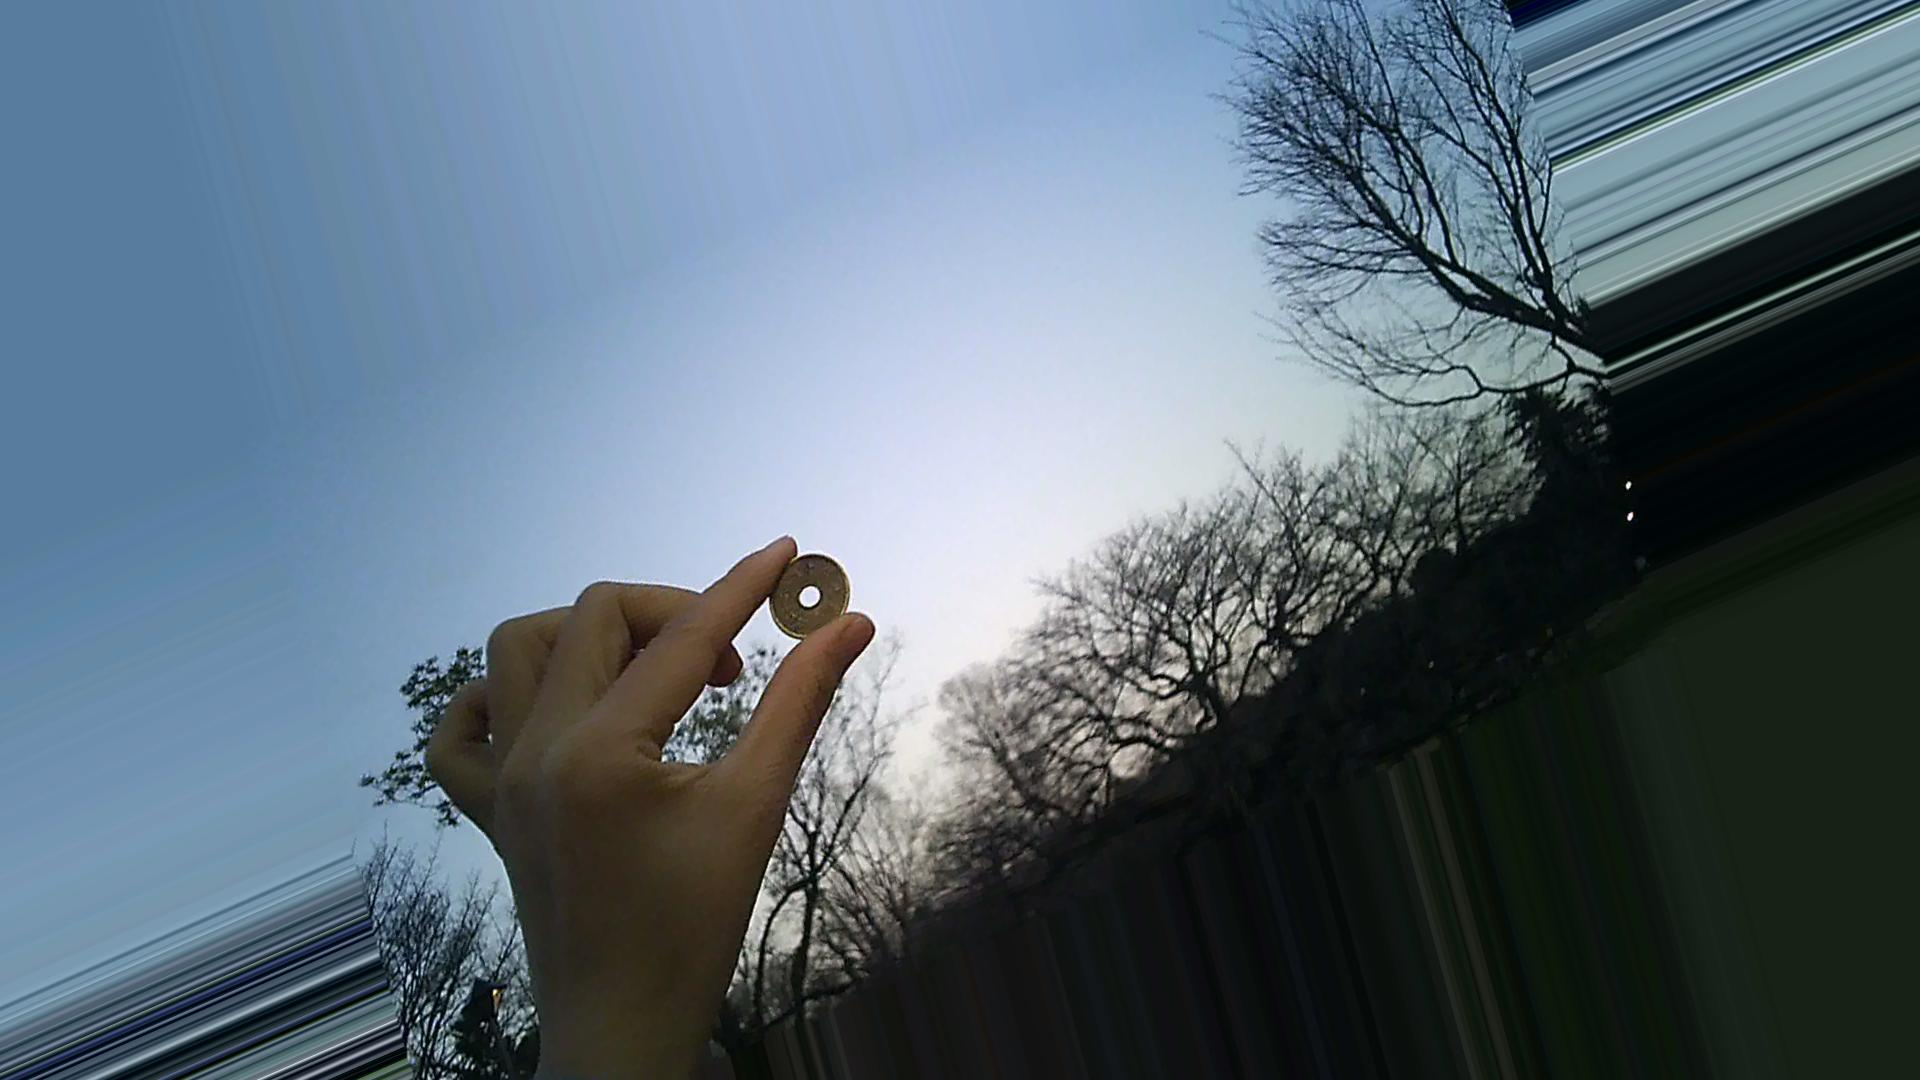5 Yen: (756, 553, 855, 642)
